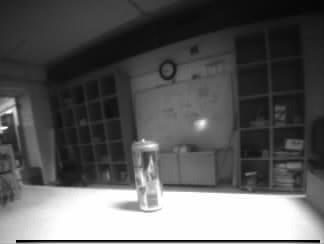Tin can: (133, 140, 163, 211)
